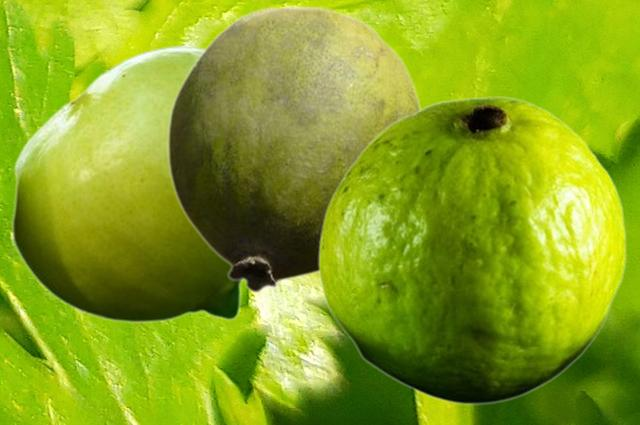guava: (317, 96, 625, 404), (166, 5, 424, 292), (10, 44, 244, 322)
